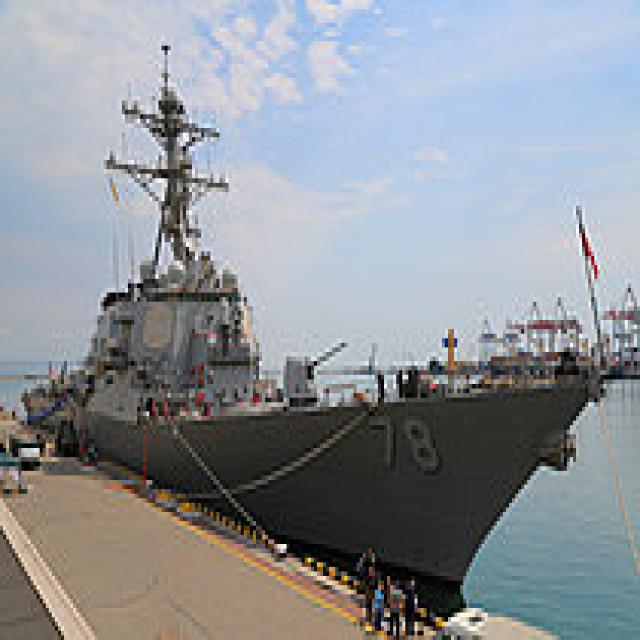Warship: (19, 36, 606, 599)
